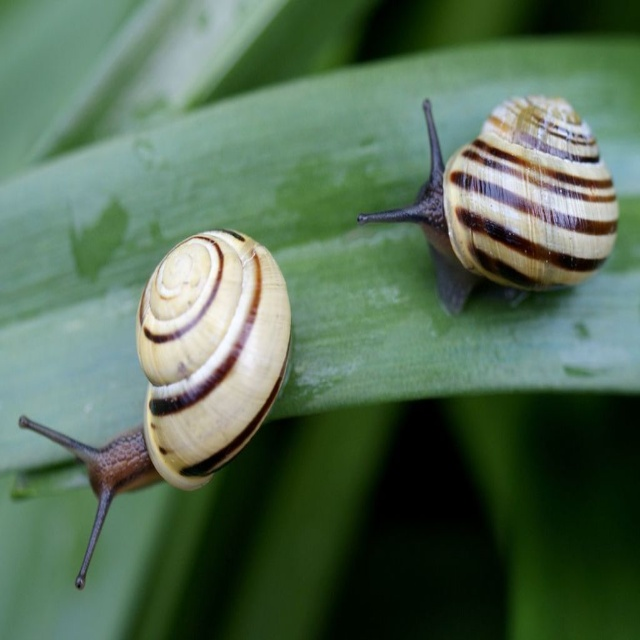Snail: (18, 229, 295, 596), (354, 96, 624, 321)
